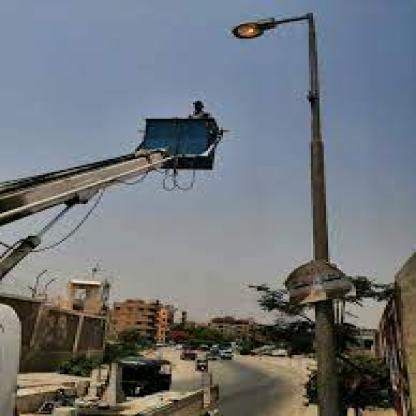light_pole: (232, 12, 344, 415)
